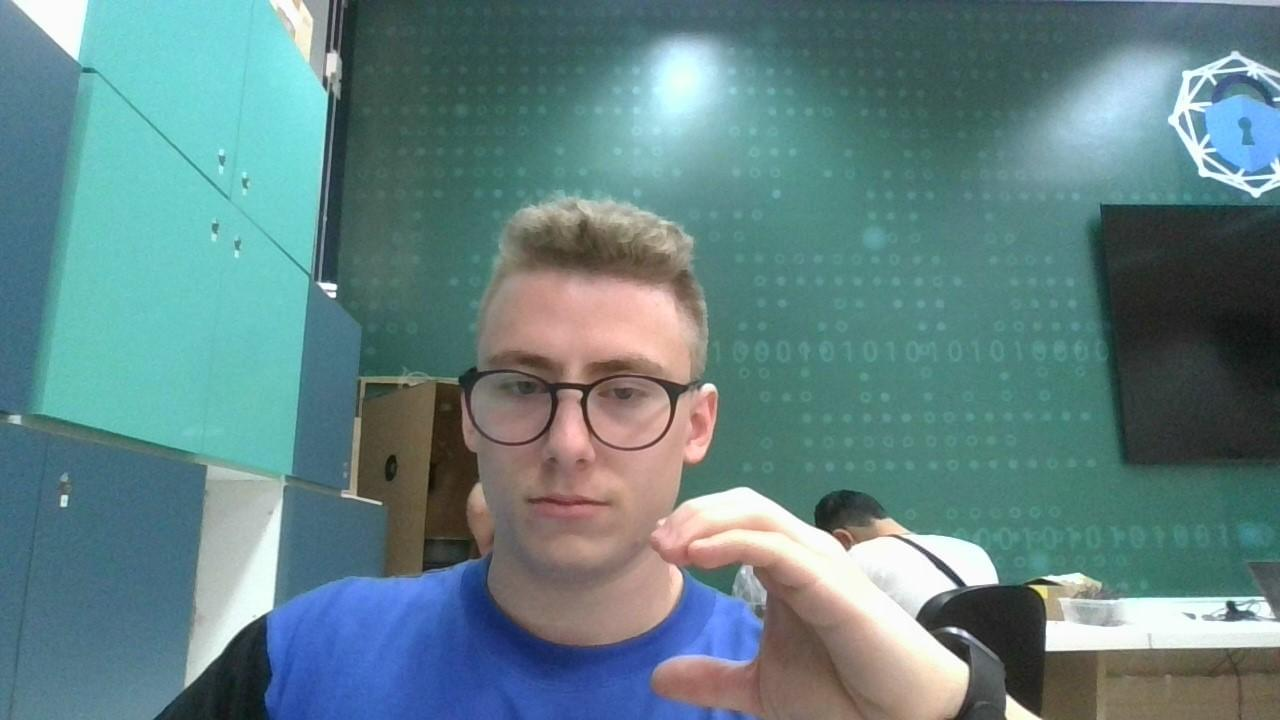C: (646, 476, 924, 720)
